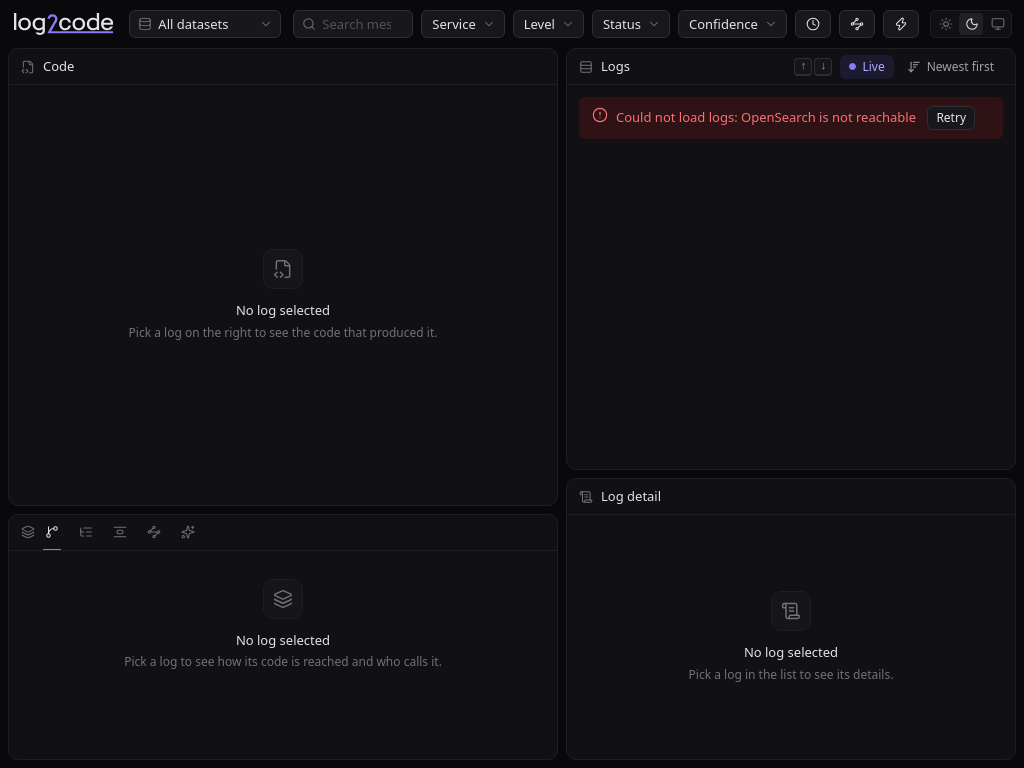
Test: log list › reports an API error with a retry
Check: the message shows "Could not load logs: OpenSearch is not reachable", box top-left (579, 97), bottom-right (1003, 139)
Click the button "Retry".
click(951, 118)  # box top-left (927, 106), bottom-right (975, 130)
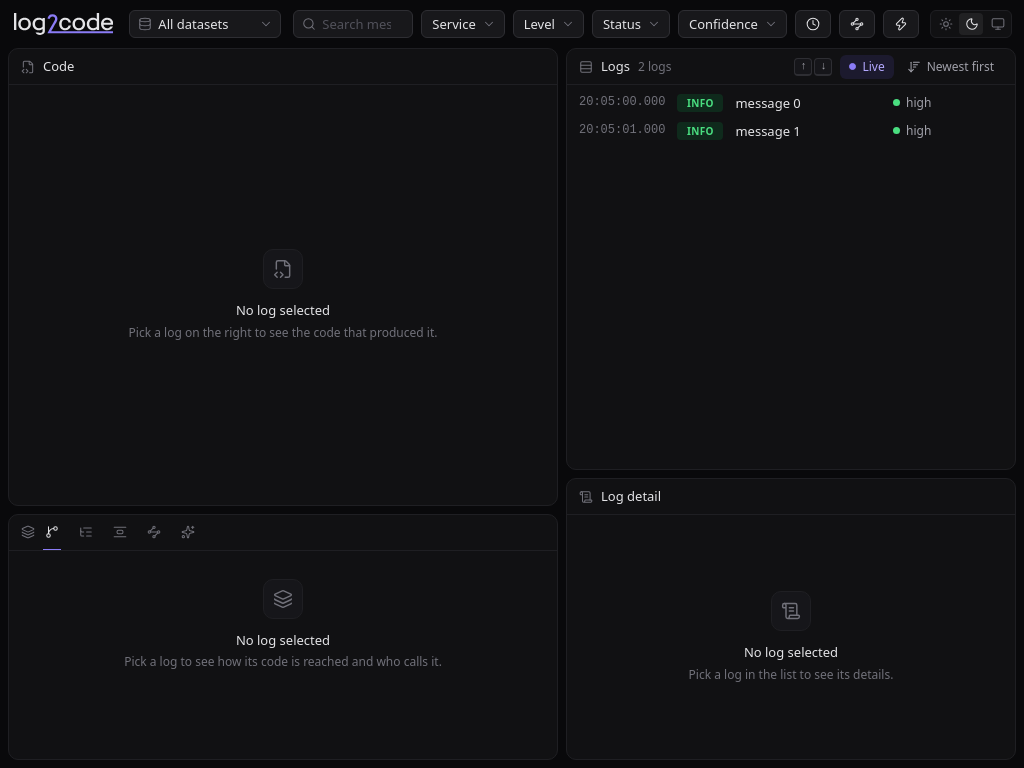
Check: the number of options is 2, box top-left (579, 94), bottom-right (931, 112); top-left (579, 122), bottom-right (931, 140)
